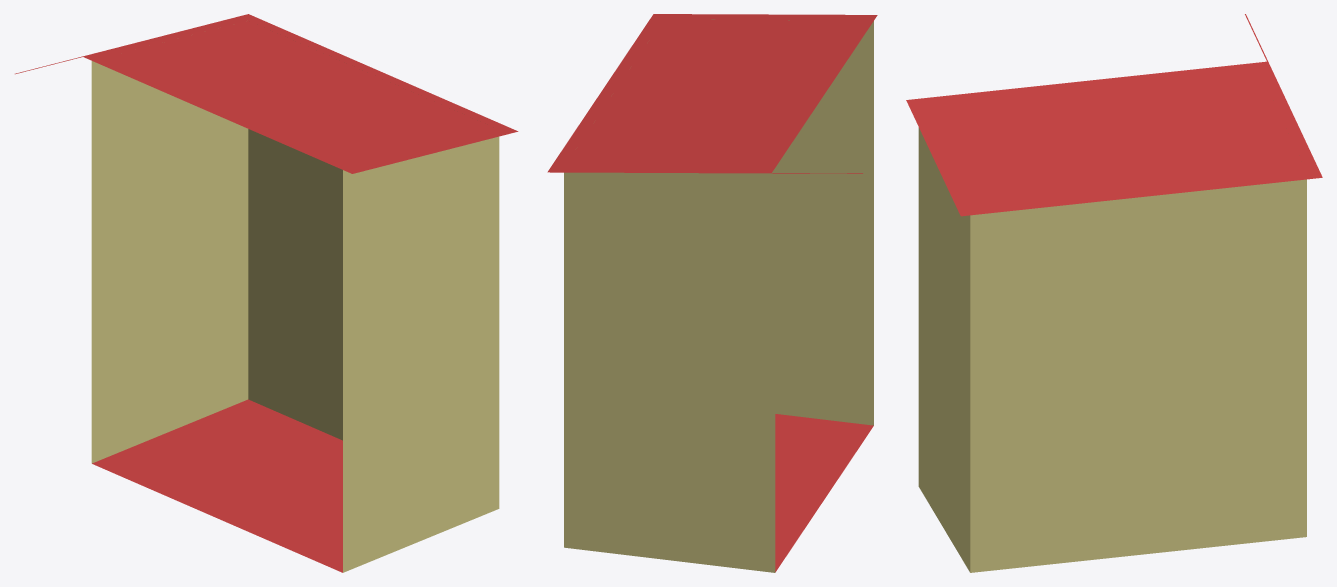
3 views of the same model, side by side, from view 1: azimuth 30°, elevation 25°; view 2: azimuth 150°, elevation 25°; view 3: azimuth 270°, elevation 25° (orthographic). The views are drawn at different scales.
Bounding box in the file's own units: 7.54 × 7.93 × 8.36.
